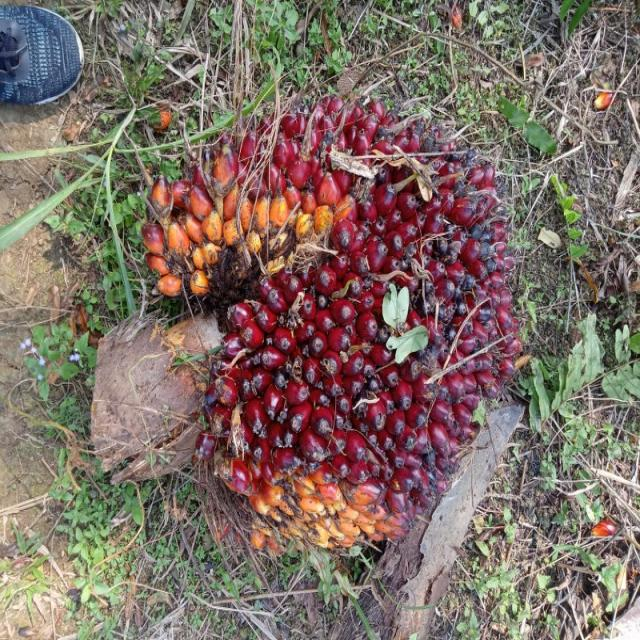fraksi 1: (124, 50, 550, 577)
